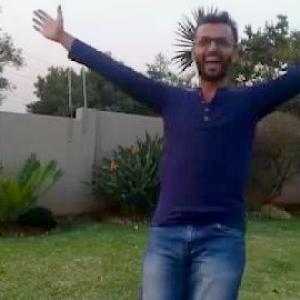takeoff: (35, 11, 299, 299)
